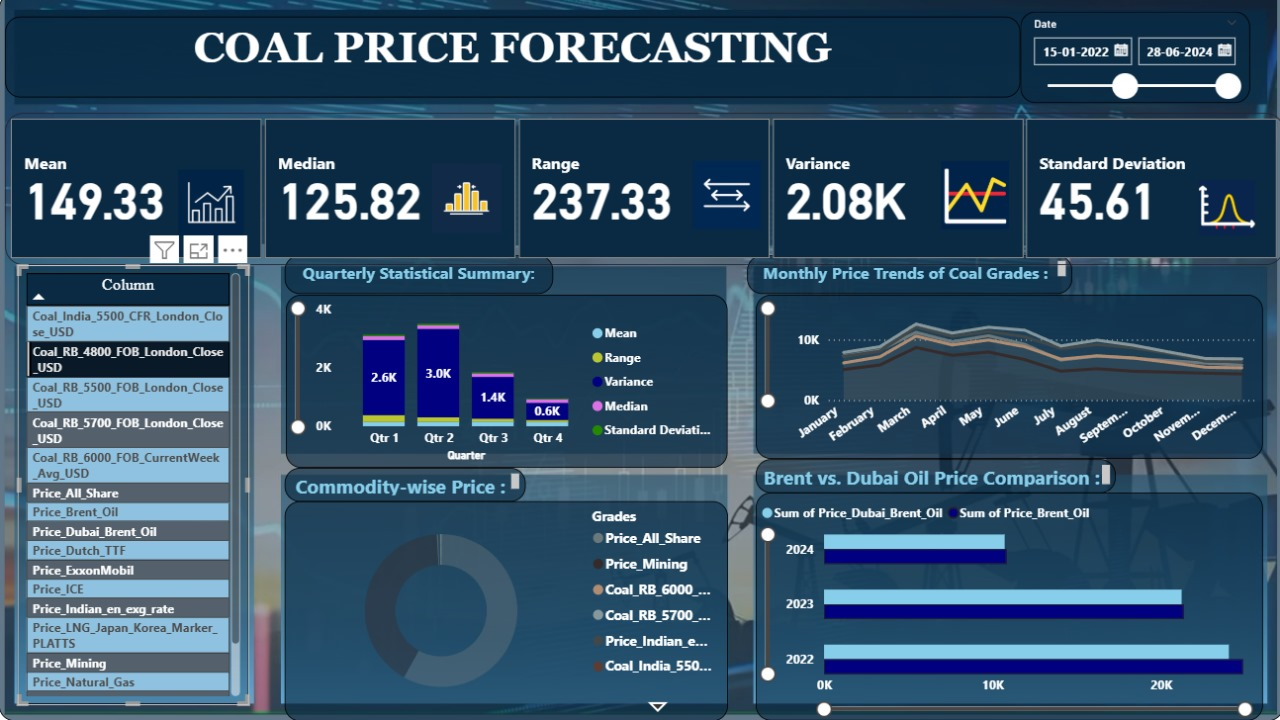

The dashboard page shown, as its layout file describes it:
{"tool":"powerbi","page":{"name":"DASHBOARD","canvas":[1280,720],"ordinal":0},"visuals":[{"type":"image","box":[10,0,1270,720],"z":0},{"type":"tableEx","fields":{"Values":["SelectedColumns.Column"]},"box":[28.5,269.4,228.4,434.5],"z":1000},{"type":"slicer","fields":{"Values":["Data set (2) (1).Date"]},"box":[1020,18.8,227.5,90],"z":7000},{"type":"textbox","box":[16.2,23.8,1003.8,80],"z":8000},{"type":"lineChart","fields":{"Y":["Sum(Data set (2) (1).Coal_India_5500_CFR_London_Close_USD)","Sum(Data set (2) (1).Coal_RB_4800_FOB_London_Close_USD)","Sum(Data set (2) (1).Coal_RB_5500_FOB_London_Close_USD)","Sum(Data set (2) (1).Coal_RB_5700_FOB_London_Close_USD)","Sum(Data set (2) (1).Coal_RB_6000_FOB_CurrentWeek_Avg_USD)"],"Category":["Data set (2) (1).Date.Variation.Date Hierarchy.Month"]},"box":[758.4,297.9,501.5,162.6],"z":9000},{"type":"textbox","box":[749.7,259.4,321.5,38.5],"z":10000},{"type":"columnChart","fields":{"Y":["Data set (2) (1).Mean","Data set (2) (1).Range","Data set (2) (1).Variance","Data set (2) (1).Median","Data set (2) (1).Standard Deviation"],"Category":["Data set (2) (1).Date.Variation.Date Hierarchy.Quarter"]},"box":[292.9,297.9,436.9,171.3],"z":11000},{"type":"textbox","box":[291.7,259.4,265.6,38.5],"z":12000},{"type":"donutChart","fields":{"Y":["Data set (2) (1).DynamicPriceMeasure"],"Category":["SelectedColumns.Column"]},"box":[291.7,502.7,438.2,217.2],"z":13000},{"type":"cardVisual","fields":{"Data":["Data set (2) (1).Mean","Data set (2) (1).Median","Data set (2) (1).Range","Data set (2) (1).Variance","Data set (2) (1).Standard Deviation"]},"box":[15.9,118.6,1264.4,150.4],"z":14000},{"type":"textbox","box":[291.7,469.2,238.3,33.5],"z":15000},{"type":"image","box":[182.2,170,74.6,74.6],"z":16000},{"type":"image","box":[432.9,161.4,78.3,83.2],"z":17000},{"type":"image","box":[689.7,161.4,80.7,77],"z":18000},{"type":"image","box":[936.7,161.4,77,77],"z":19000},{"type":"clusteredBarChart","fields":{"Y":["Sum(Data set (2) (1).Price_Dubai_Brent_Oil)","Sum(Data set (2) (1).Price_Brent_Oil)"],"Category":["Data set (2) (1).Date.Variation.Date Hierarchy.Year"]},"box":[758.4,494,501.5,225.9],"z":20000},{"type":"image","box":[1188.6,179.8,70.9,64.8],"z":21000},{"type":"textbox","box":[758.4,460.5,356.2,33.5],"z":22000}]}

Visuals, with their boxes in screenshot pixels (x1, y1, x2, y2), scaled from the page's 1280x720 canvas onto the 1280x720 screenshot:
image: 10 0 1279 719
tableEx - SelectedColumns.Column: 28 269 257 704
slicer - Data set (2) (1).Date: 1020 19 1248 109
textbox: 16 24 1020 104
lineChart - Sum(Data set (2) (1).Coal_India_5500_CFR_London_Close_USD) x Sum(Data set (2) (1).Coal_RB_4800_FOB_London_Close_USD): 758 298 1260 460
textbox: 750 259 1071 298
columnChart - Data set (2) (1).Mean x Data set (2) (1).Range: 293 298 730 469
textbox: 292 259 557 298
donutChart - Data set (2) (1).DynamicPriceMeasure x SelectedColumns.Column: 292 503 730 719
cardVisual - Data set (2) (1).Mean x Data set (2) (1).Median: 16 119 1279 269
textbox: 292 469 530 503
image: 182 170 257 245
image: 433 161 511 245
image: 690 161 770 238
image: 937 161 1014 238
clusteredBarChart - Sum(Data set (2) (1).Price_Dubai_Brent_Oil) x Sum(Data set (2) (1).Price_Brent_Oil): 758 494 1260 719
image: 1189 180 1260 245
textbox: 758 460 1115 494
